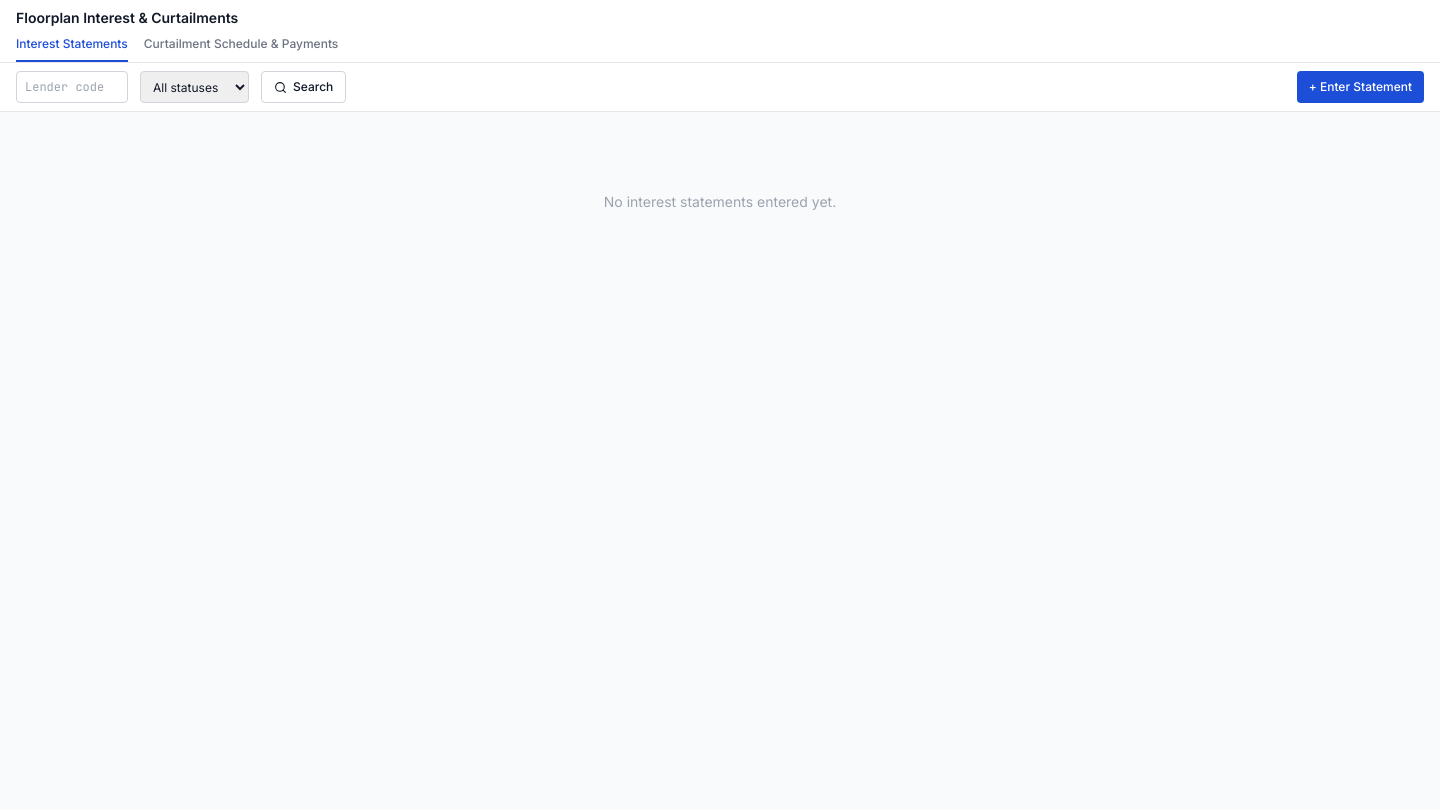
Scenario: FloorplanInterestCurtailments — Curtailment payments journal drill-down › drills into the real coa-service journal from a curtailment payment row
Click the button with test id "curtailment-tab-button".
click(241, 49)  # box [144,36,338,62]
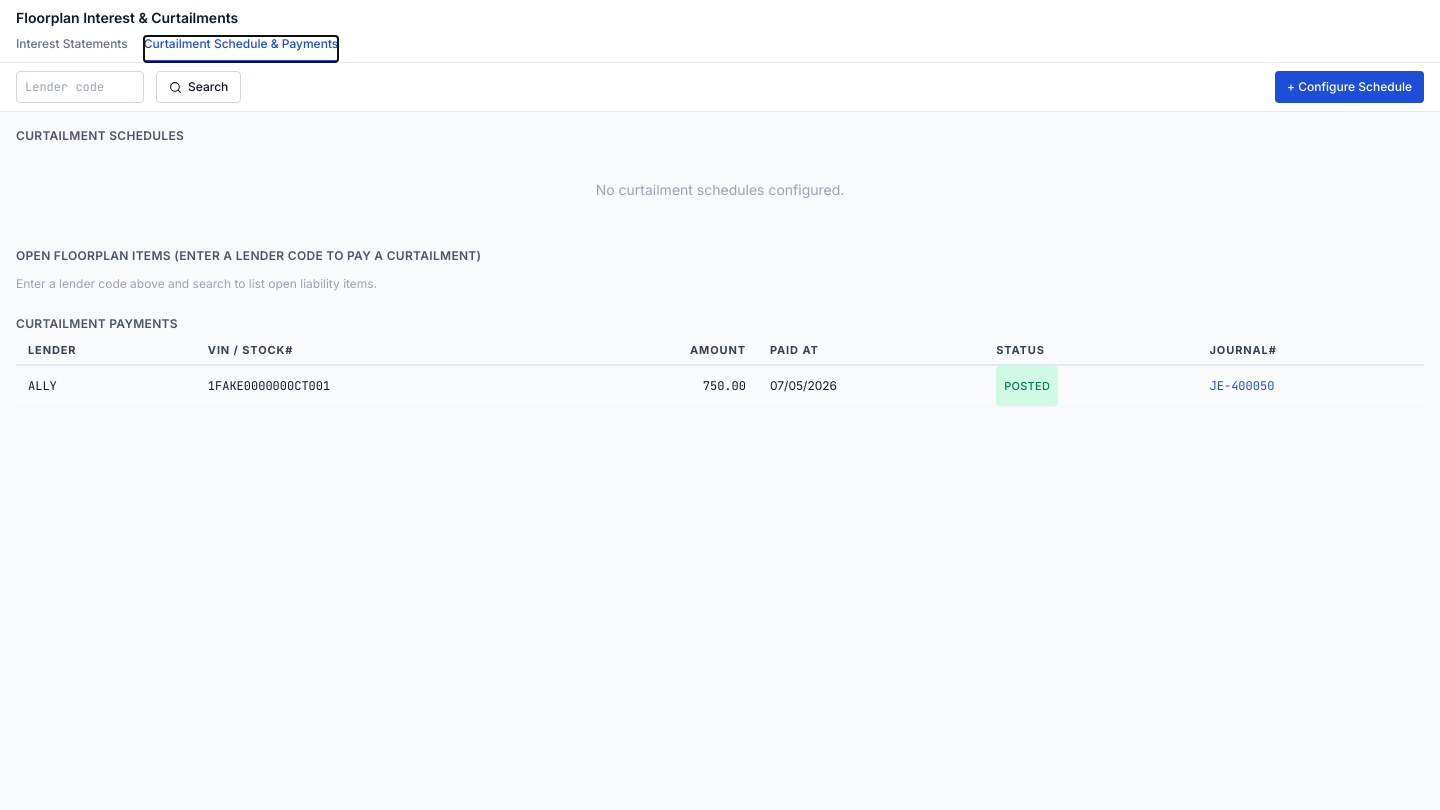
Click the button with test id "journal-drill-link-pay-1".
click(1242, 386)  # box [1210,368,1274,404]
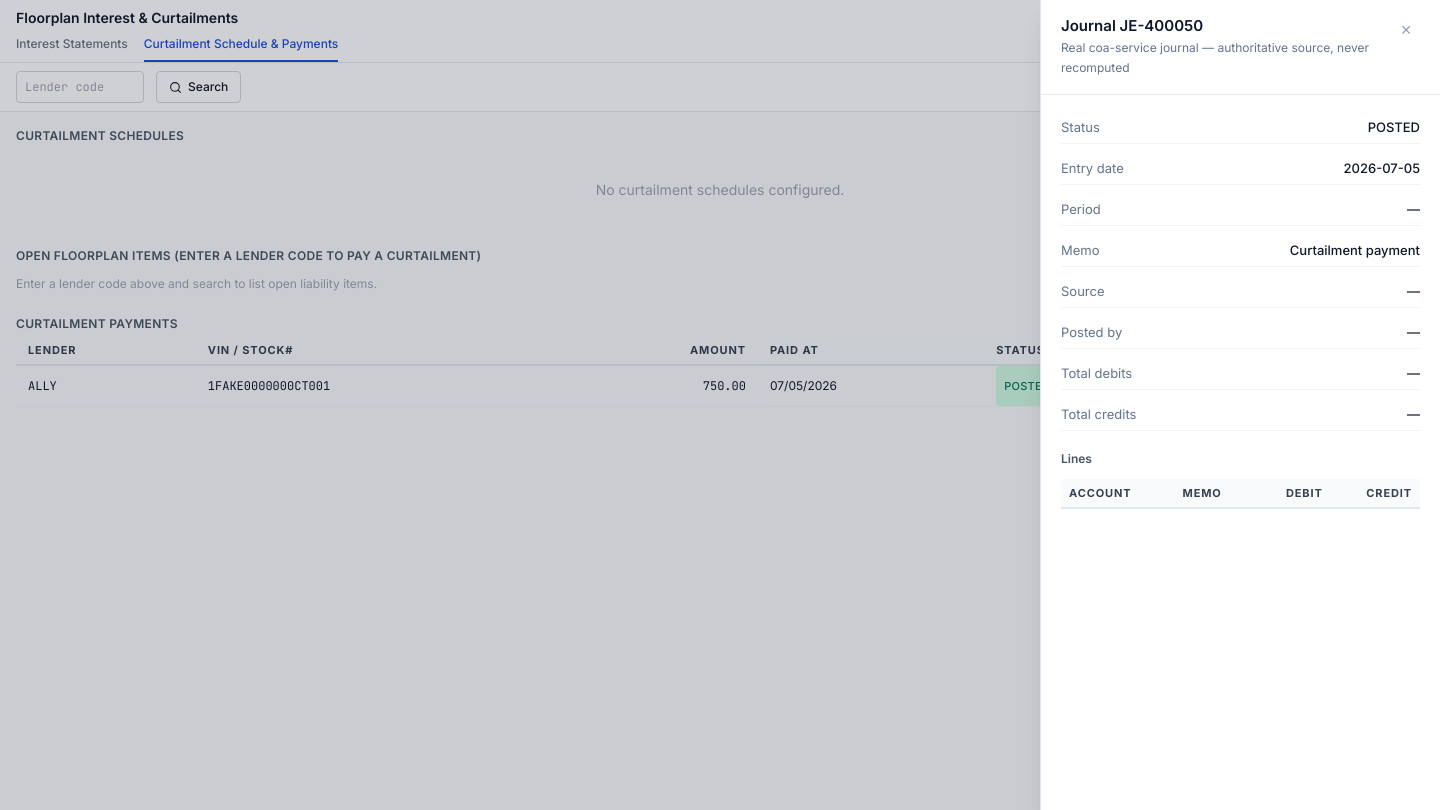
Expected: the dialog with test id "ce12-journal-drill-drawer" is shown, [1040,0,1439,809]
